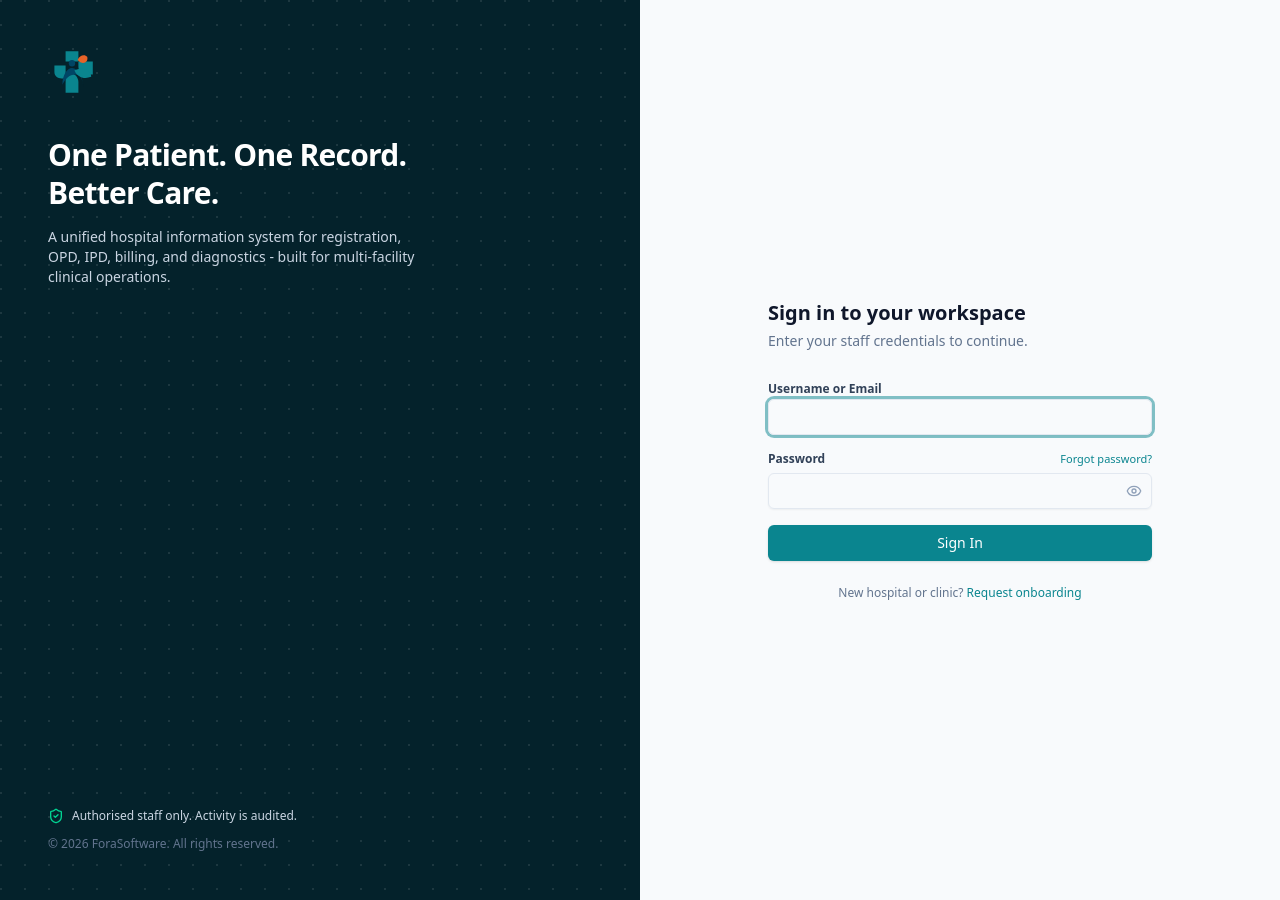
Test: login page › shows the no-facility state
Type "dr.who" into the field labelled "Username or Email" at (960,417), box [768,399,1152,435]
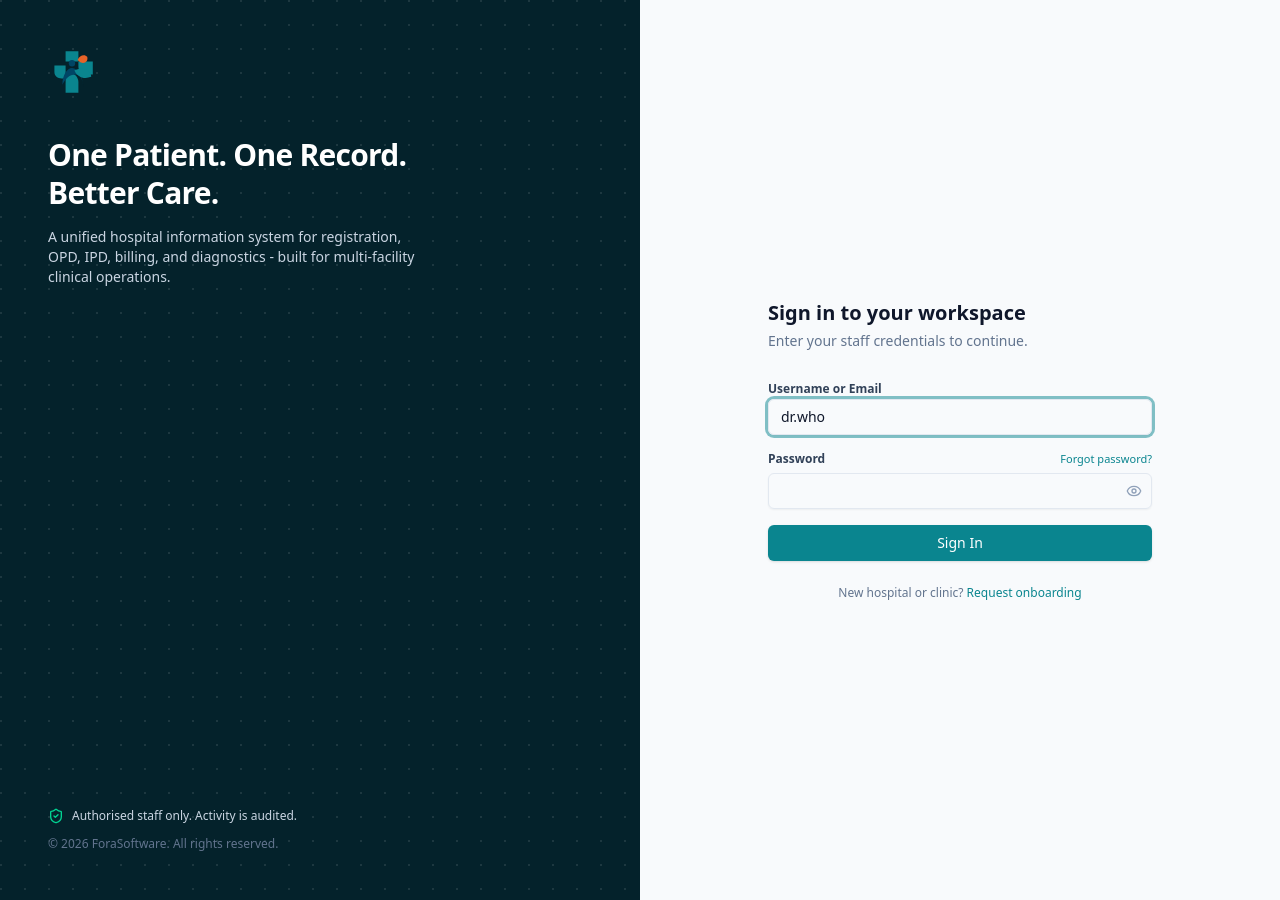
Type "pw" into the password field labelled "Password" at (960,491), box [768,473,1152,509]
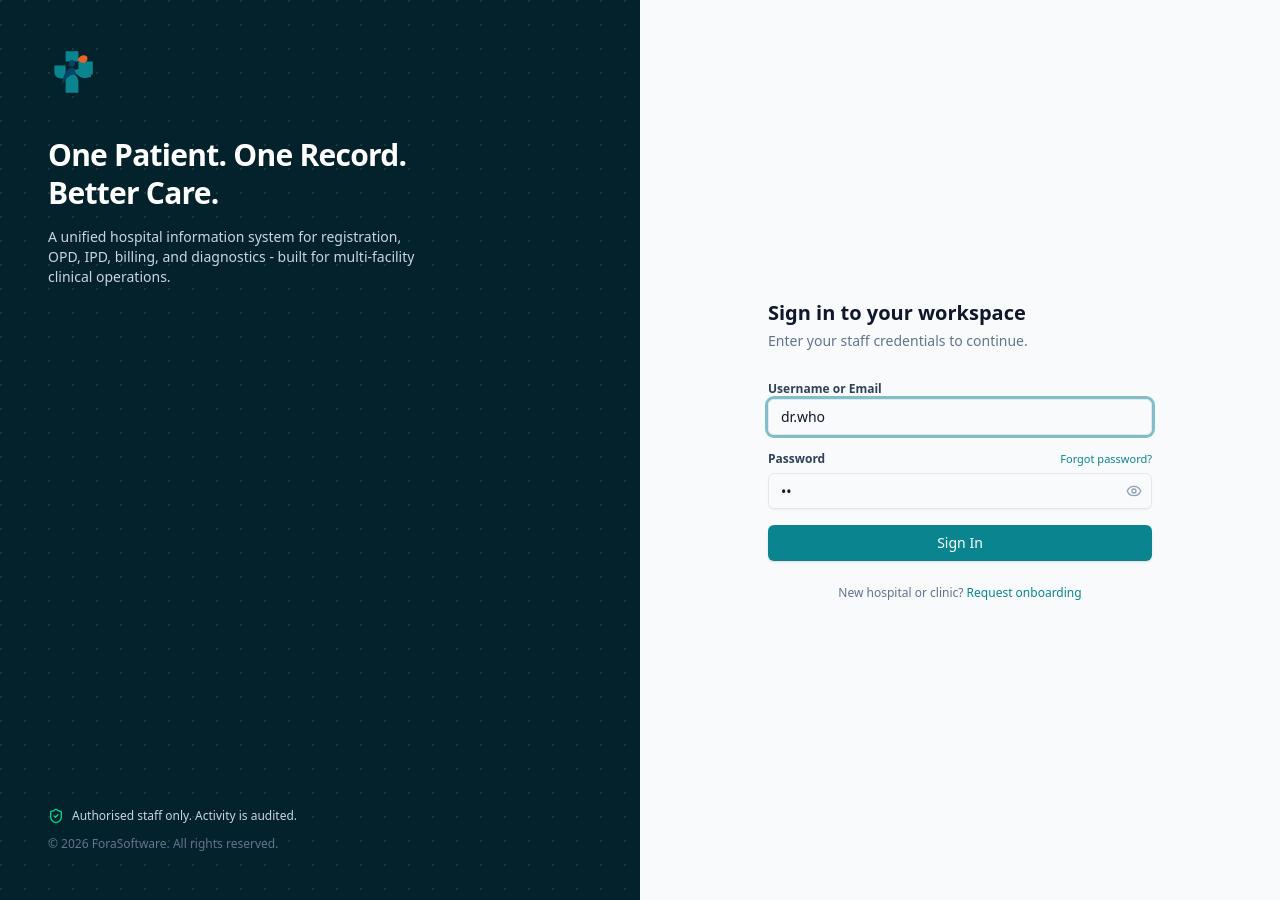
Click the button "Sign In" at (960,543), box [768,525,1152,561]
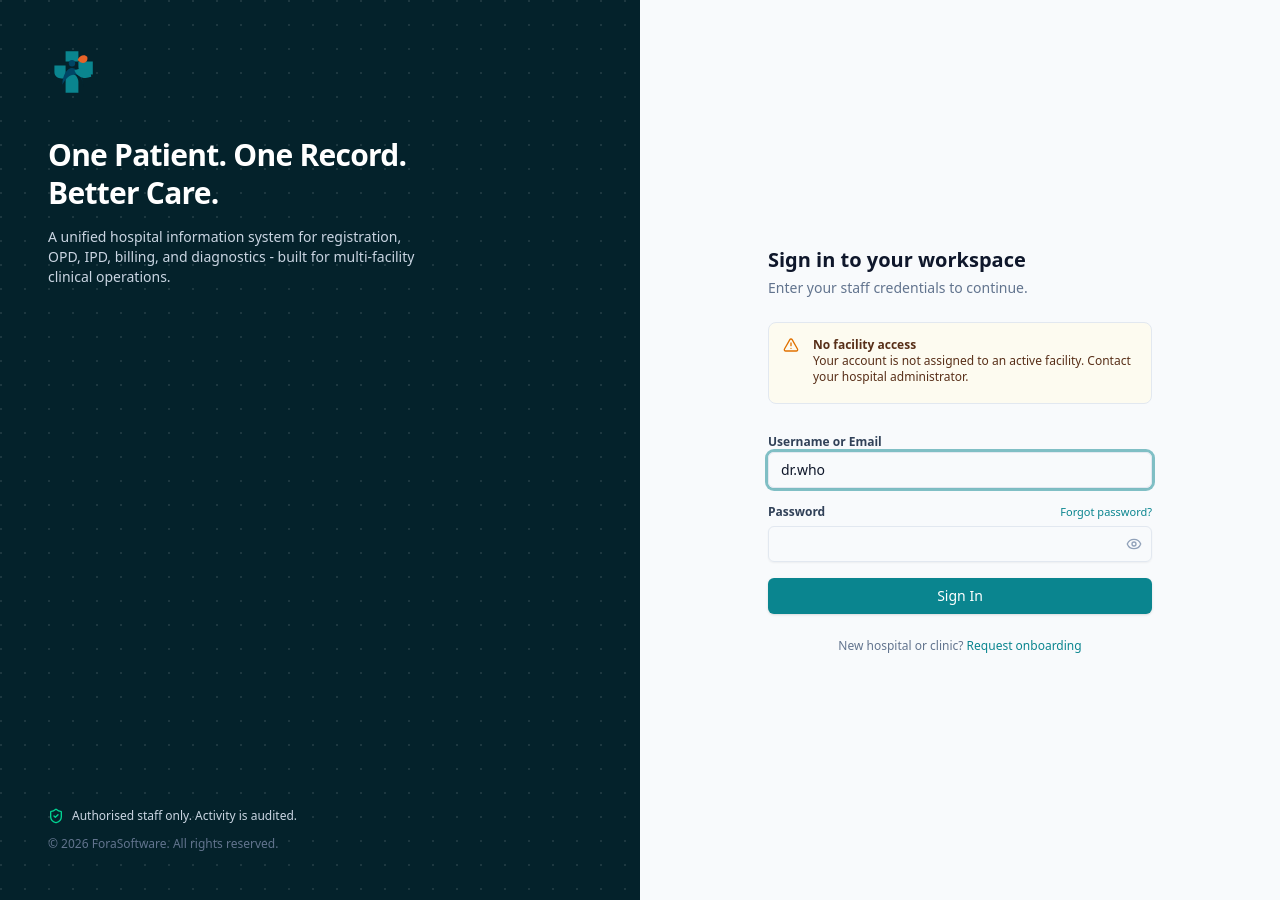
Now the text "No facility access" is shown, box [813,336,916,353]
